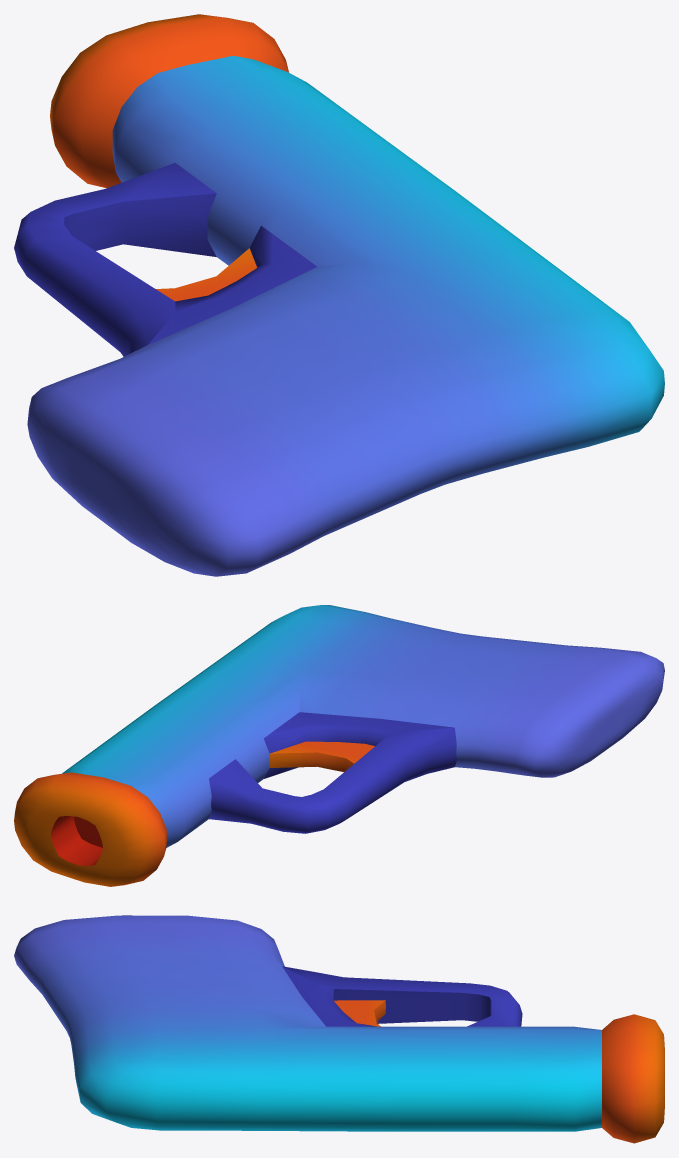
The model's file is DartGun.fbx.
3 renders of one model, top to bottom at view 1: azimuth 30°, elevation 25°; view 2: azimuth 150°, elevation 25°; view 3: azimuth 270°, elevation 25°, orthographic. The views are drawn at different scales.
Parts seen in each view (by area): view 1: DartGun; view 2: DartGun; view 3: DartGun.
Boxes of the visible parts, <box> form: DartGun: <box>14,14,664,576</box>; DartGun: <box>14,605,664,886</box>; DartGun: <box>14,915,664,1143</box>.
Bounding box in the file's own units: 0.5418 × 0.1446 × 0.8463.
